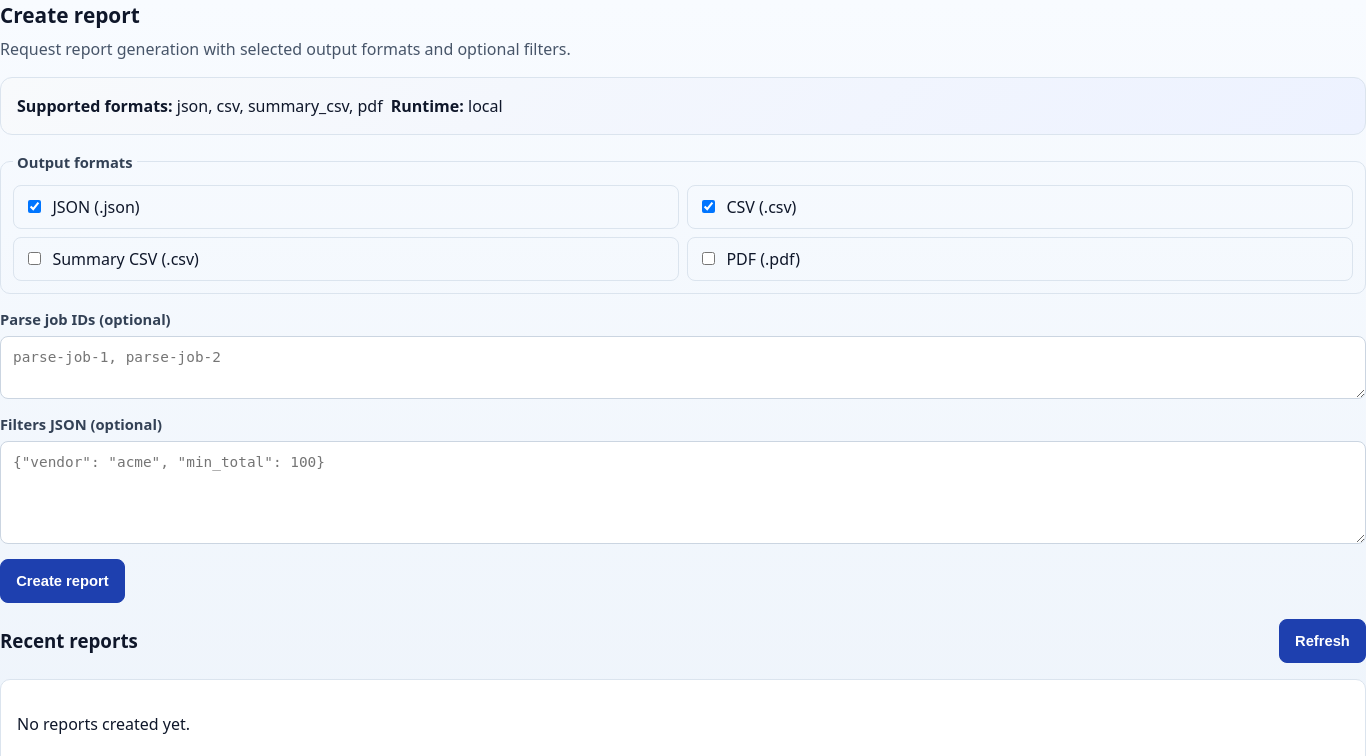
Test case: ReportCreationScreen › clears prior success banner when a later submit fails
The width and height of the screenshot is (1366, 756).
Expected: the text "No reports created yet." is shown, [17,713,190,735]
Click the button "Create report".
click(62, 581)  # box [0,559,125,603]
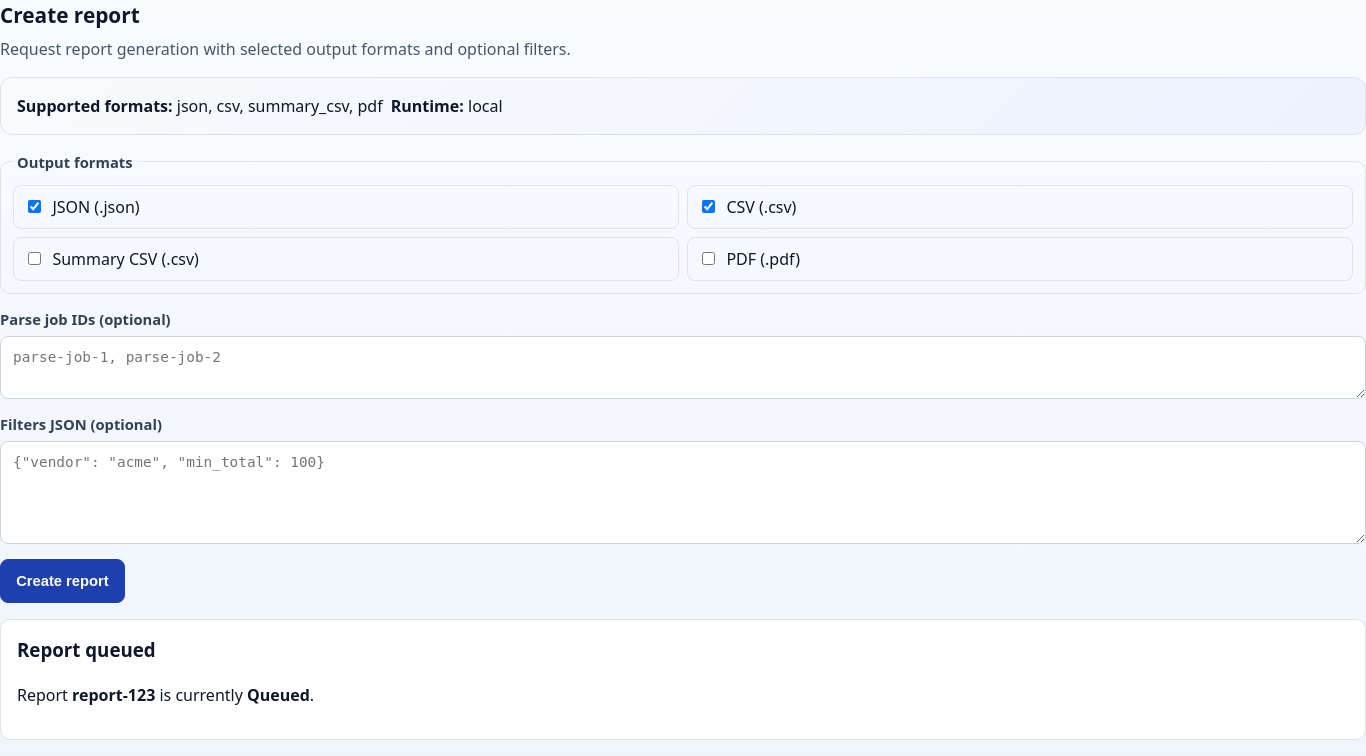
Now the heading "Report queued" is shown, box [17,637,156,662]
Click the button "Create report".
click(62, 581)  # box [0,559,125,603]
(page scrolled)
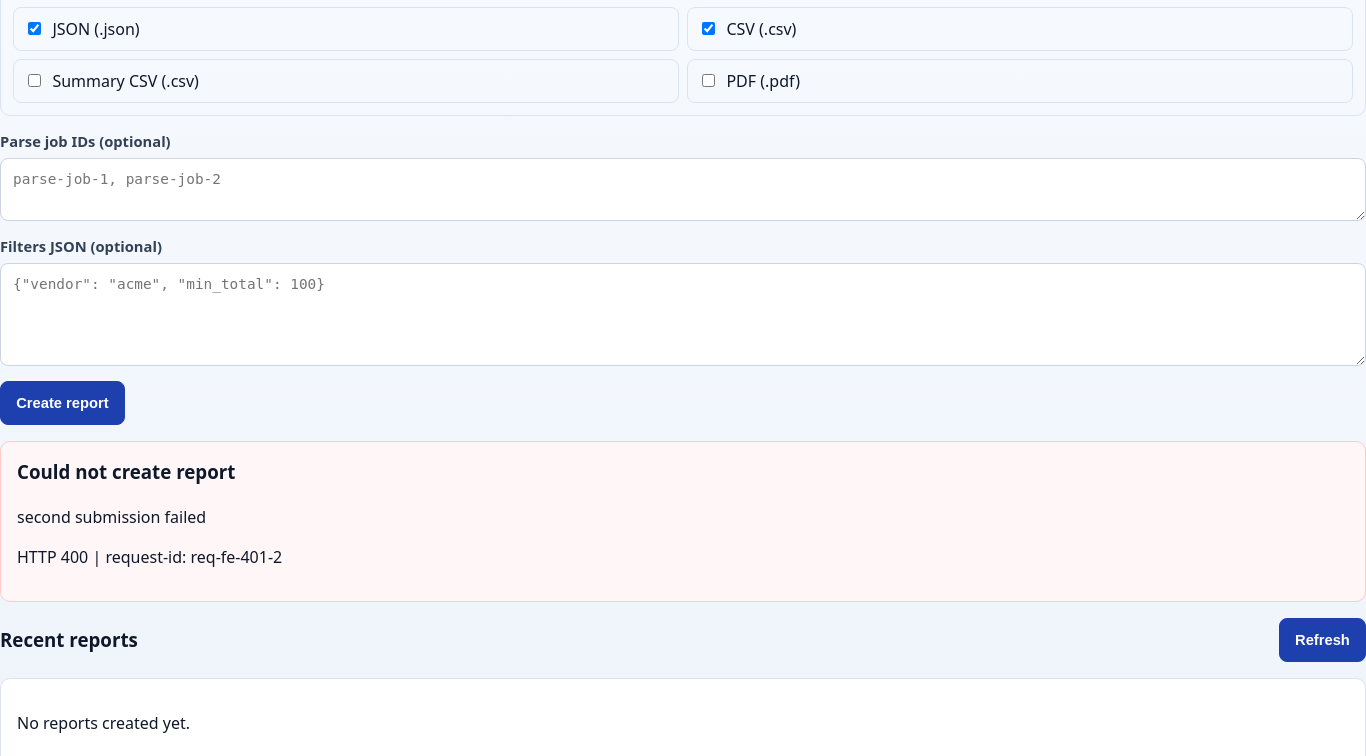
Now the message shows "second submission failed", box [17,506,206,528]
Now the heading "Report queued" is gone
